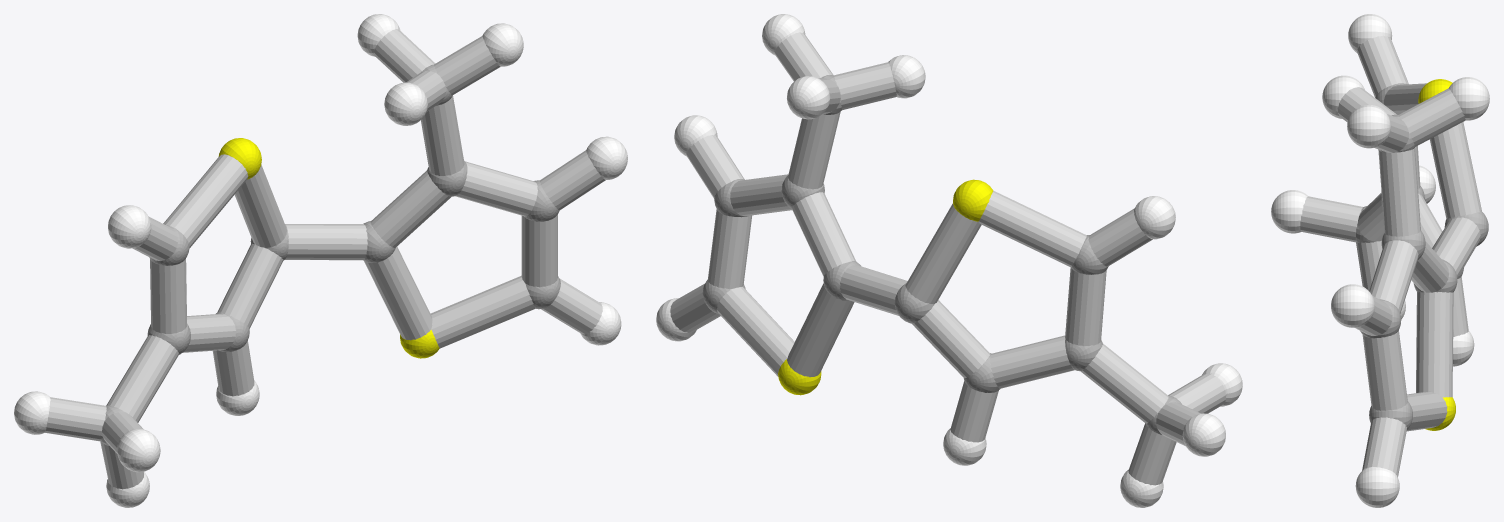
The model's file is Methylthiophene_Phi_40_Theta_10_Methylthiophene.glb.
The picture shows the model from 3 angles, left to right: view 1: azimuth 30°, elevation 25°; view 2: azimuth 150°, elevation 25°; view 3: azimuth 270°, elevation 25°; orthographic projection.
Parts seen in each view (by area): view 1: grp7965, grp3621, grp1, grp7241; view 2: grp7965, grp3621, grp1, grp7241; view 3: grp7965, grp3621, grp1, grp7241.
Part boxes in pixels (x1,y1,x2,y2): grp7965: (45,29,605,489); grp3621: (14,14,627,507); grp1: (101,64,560,445); grp7241: (218,138,439,358); grp7965: (670,32,1226,485); grp3621: (656,14,1242,507); grp1: (702,75,1181,434); grp7241: (778,179,993,395); grp7965: (1300,35,1481,476); grp3621: (1271,14,1489,507); grp1: (1355,83,1488,429); grp7241: (1418,79,1455,430).
Size of the model in its own units: 9.26 by 6.01 by 2.98.
